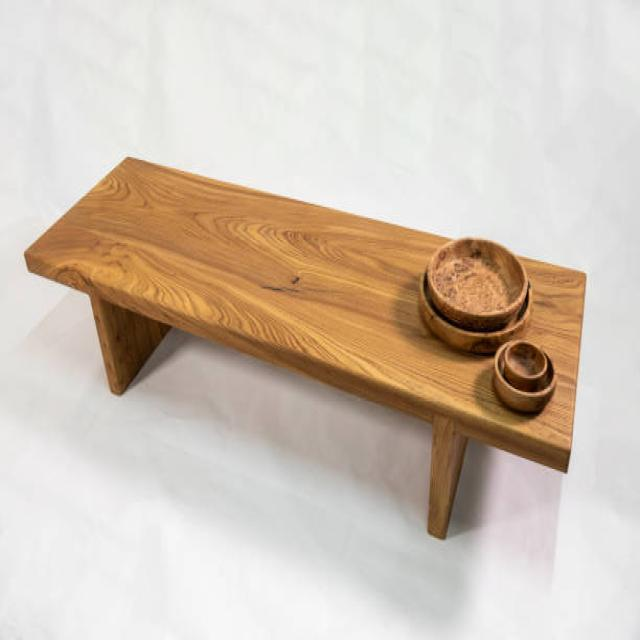table: (23, 152, 587, 540)
